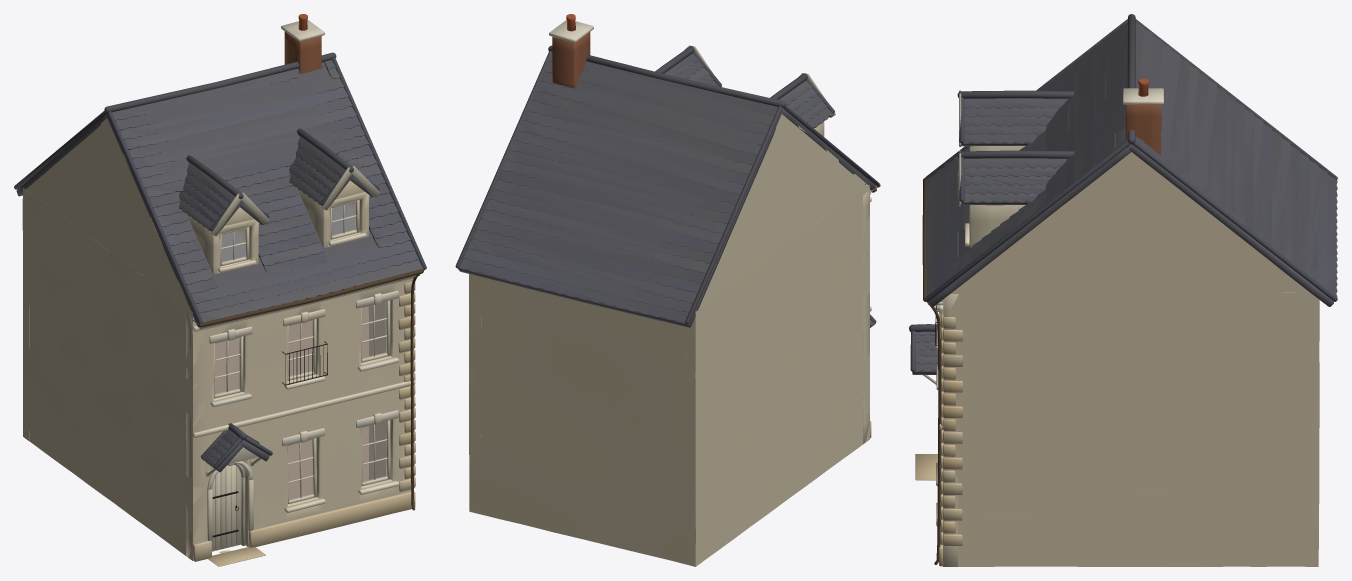
Rendered from StraightEnd_Outer4.glb.
3 views of the same model, side by side, from view 1: azimuth 30°, elevation 25°; view 2: azimuth 150°, elevation 25°; view 3: azimuth 270°, elevation 25° (orthographic). The views are drawn at different scales.
Parts seen in each view (by area): view 1: Sammel Quader, Sammel Stein, Sammel Lack, Sammel Putz, Glas, Sammel Putz innen, Sammel Metall, Sammel Ziegel; view 2: Sammel Quader, Sammel Stein, Sammel Ziegel, Sammel Putz; view 3: Sammel Quader, Sammel Stein, Sammel Metall, Sammel Ziegel, Sammel Putz.
Boxes of the visible parts, box(x1,y1,x2,y2) form: Sammel Quader: box(22, 118, 413, 560); Sammel Stein: box(14, 52, 426, 566); Sammel Lack: box(193, 166, 420, 551); Sammel Putz: box(193, 14, 415, 540); Glas: box(215, 202, 386, 499); Sammel Putz innen: box(214, 302, 386, 499); Sammel Metall: box(198, 269, 423, 537); Sammel Ziegel: box(284, 31, 321, 73); Sammel Quader: box(469, 114, 869, 566); Sammel Stein: box(455, 45, 878, 438); Sammel Ziegel: box(552, 32, 590, 88); Sammel Putz: box(549, 14, 871, 311); Sammel Quader: box(943, 146, 1319, 566); Sammel Stein: box(909, 14, 1337, 566); Sammel Metall: box(922, 178, 941, 564); Sammel Ziegel: box(1125, 104, 1161, 154); Sammel Putz: box(936, 78, 1163, 526).
Bounding box in the file's own units: 6.26 × 11.17 × 9.13.
